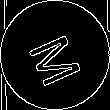M_NE: (22, 23, 88, 87)
